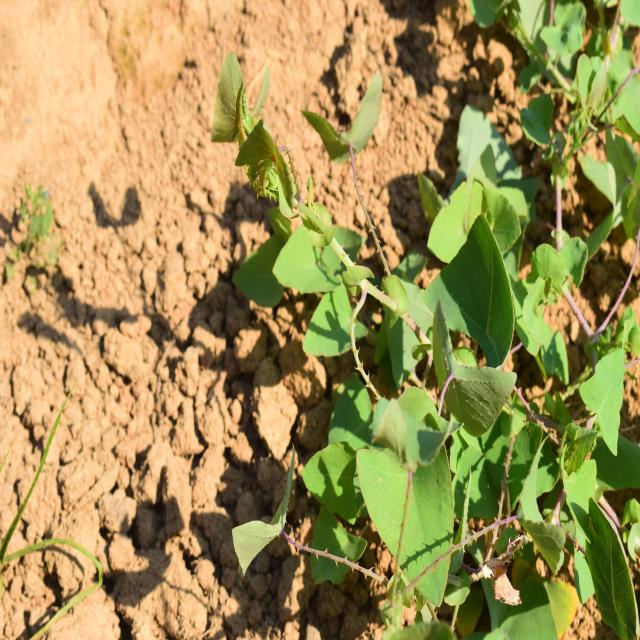Asiatic_Smartweed: (262, 195, 534, 562)
